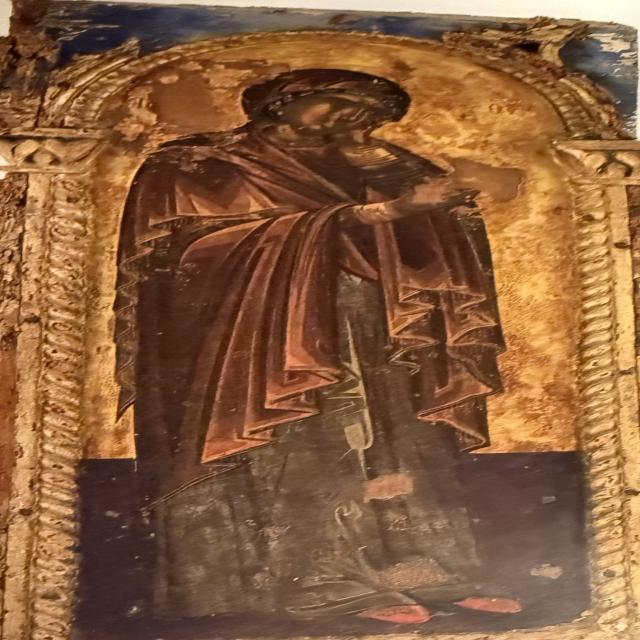saint: (153, 45, 545, 635)
